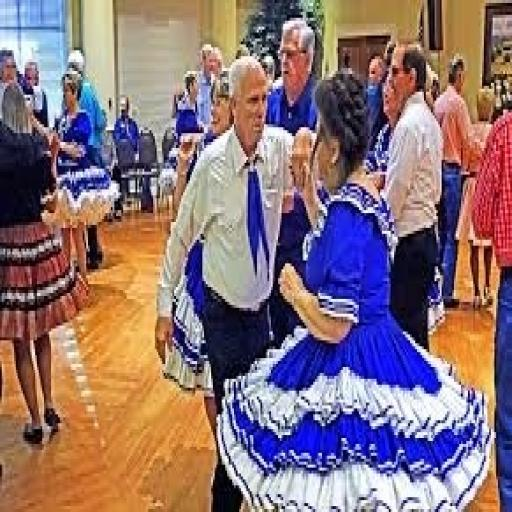dancing: (184, 56, 510, 512)
